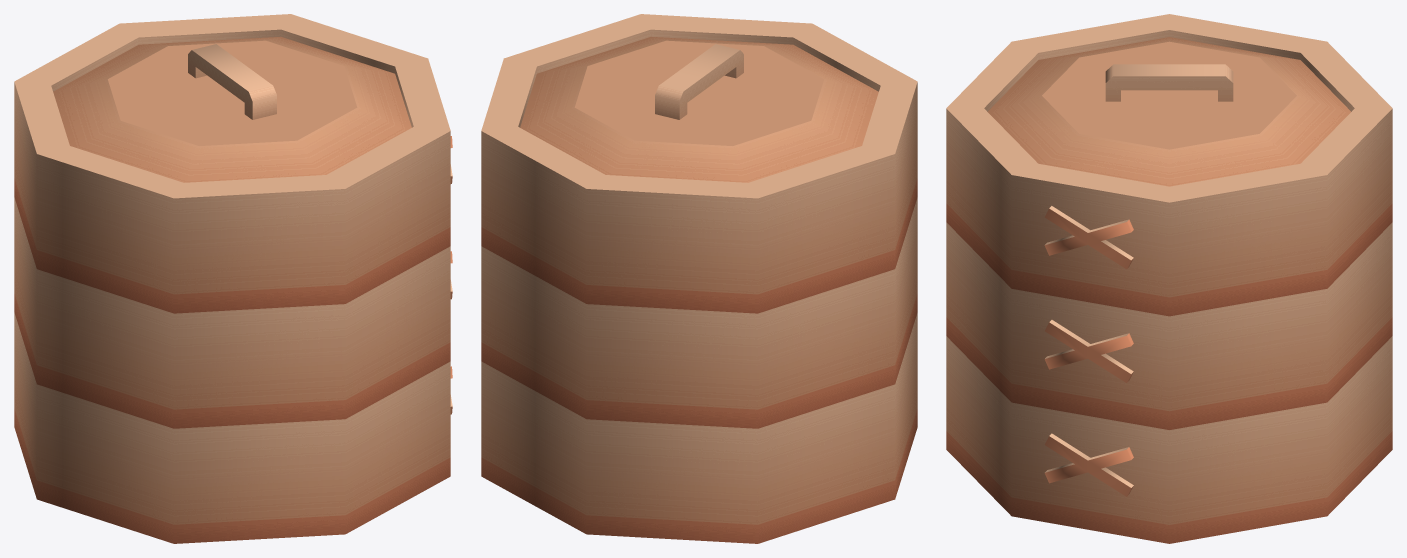
The model's file is steamer.glb.
3 views of the same model, side by side, from view 1: azimuth 30°, elevation 25°; view 2: azimuth 150°, elevation 25°; view 3: azimuth 270°, elevation 25° (orthographic).
Visible parts, largest first — view 1: layer (×3), lid; view 2: layer (×3), lid; view 3: layer (×3), lid.
Boxes of the visible parts, x1=… form: layer (×3): x1=14, y1=14, x2=452, y2=543; lid: x1=53, y1=36, x2=411, y2=182; layer (×3): x1=481, y1=14, x2=917, y2=543; lid: x1=520, y1=36, x2=878, y2=182; layer (×3): x1=946, y1=14, x2=1392, y2=543; lid: x1=988, y1=37, x2=1350, y2=186.
Bounding box in the file's own units: 0.64 × 0.6 × 0.64.
1 material, 1 textured.
